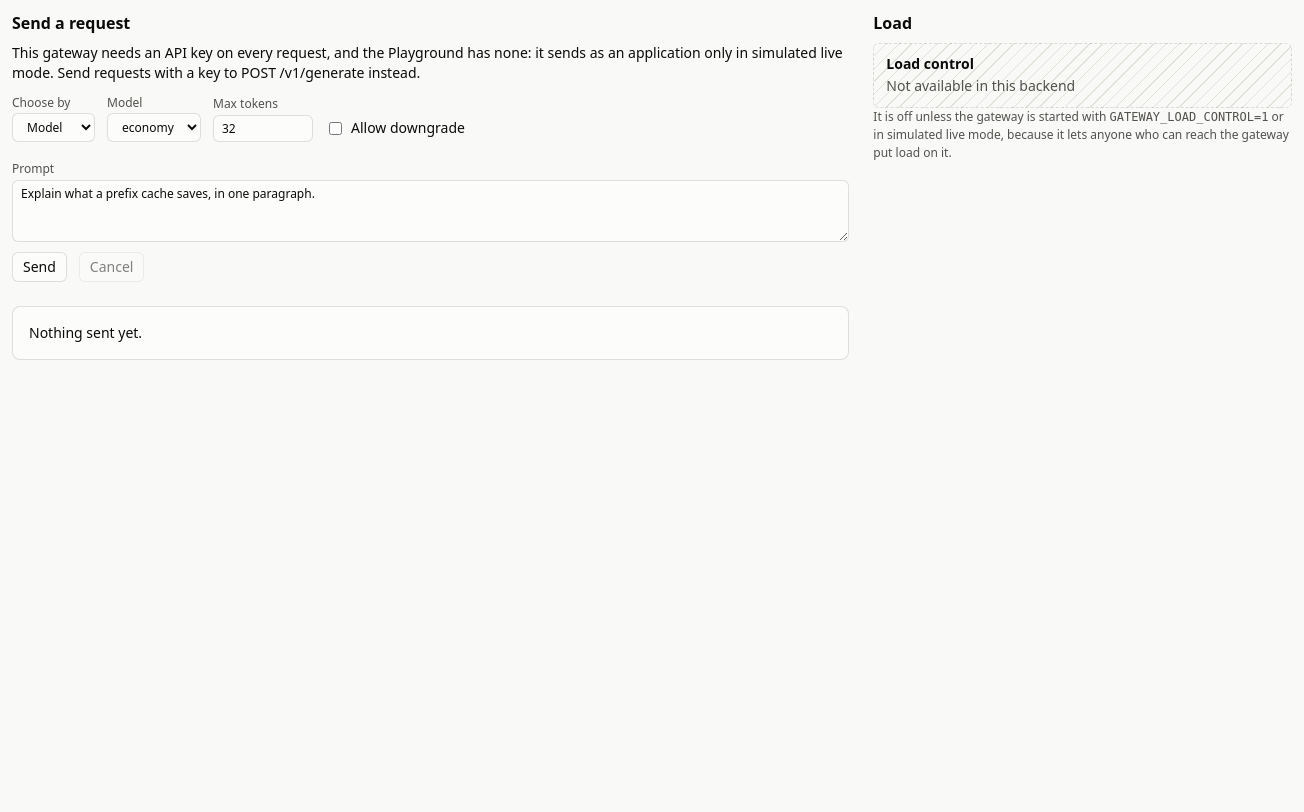
Test case: response › shows the tokens, TTFT, the gap before each token, and the headers
Expected: the text "Nothing sent yet." is shown, [29, 323, 142, 342]
Click the button "Send": point(39, 267) [12, 252, 67, 282]
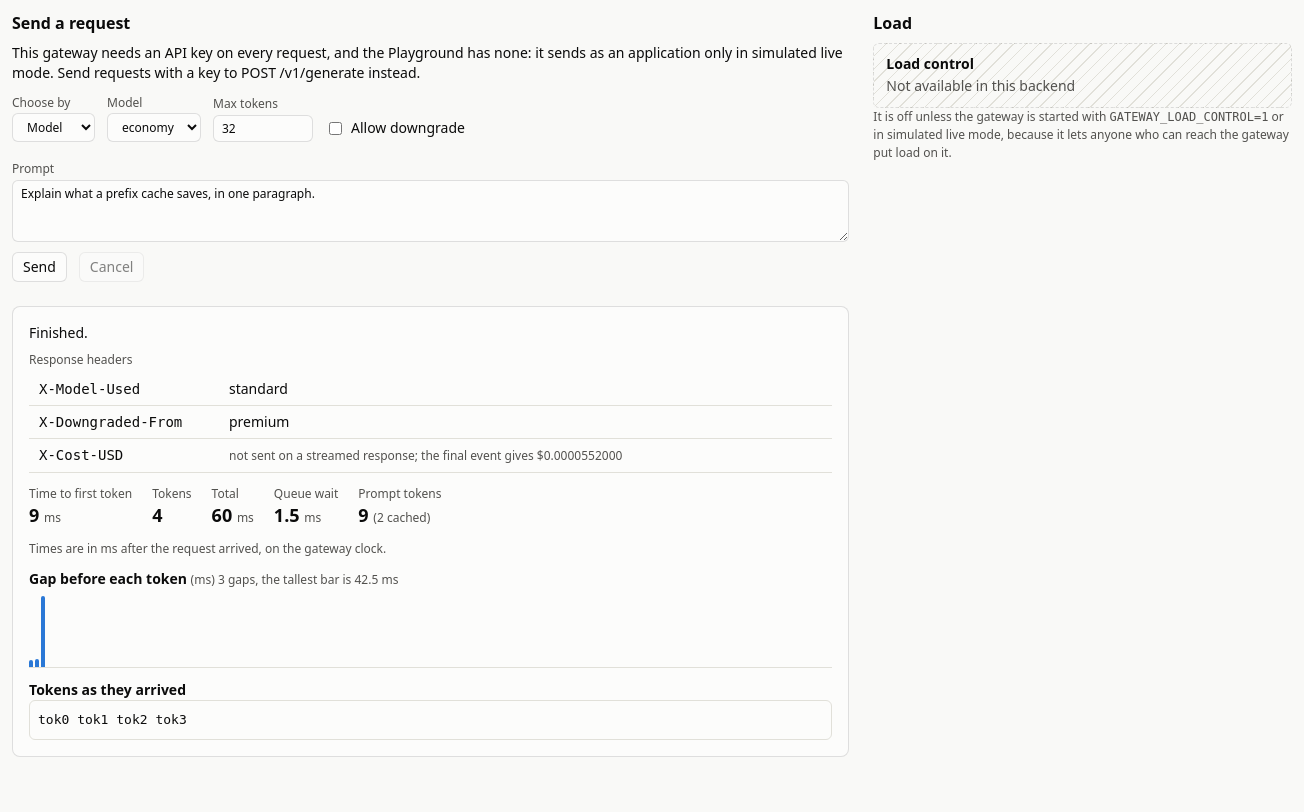
Now the text "Finished." is shown, box [29, 323, 88, 342]
Now the element named "Tokens" reads "tok0 tok1 tok2 tok3", box [29, 700, 832, 740]
Now the text "3 gaps, the tallest bar is 42.5 ms" is shown, box [215, 572, 398, 588]
